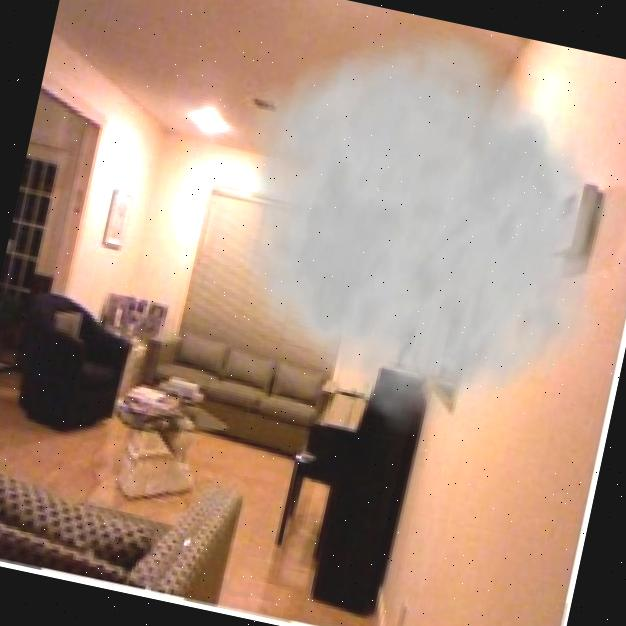smoke: (178, 0, 626, 478)
